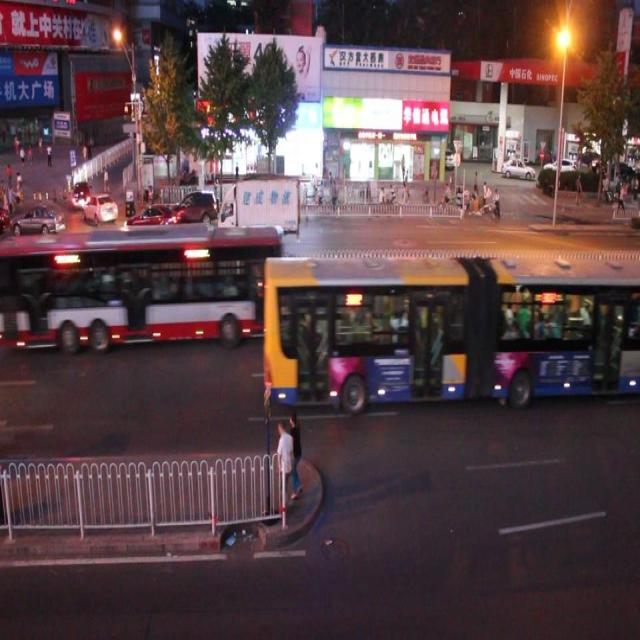bus: (218, 180, 298, 242)
car: (166, 185, 223, 232), (11, 202, 65, 241), (124, 201, 180, 236), (83, 191, 118, 224), (72, 177, 92, 210)
van: (262, 254, 640, 402), (1, 223, 284, 341)
